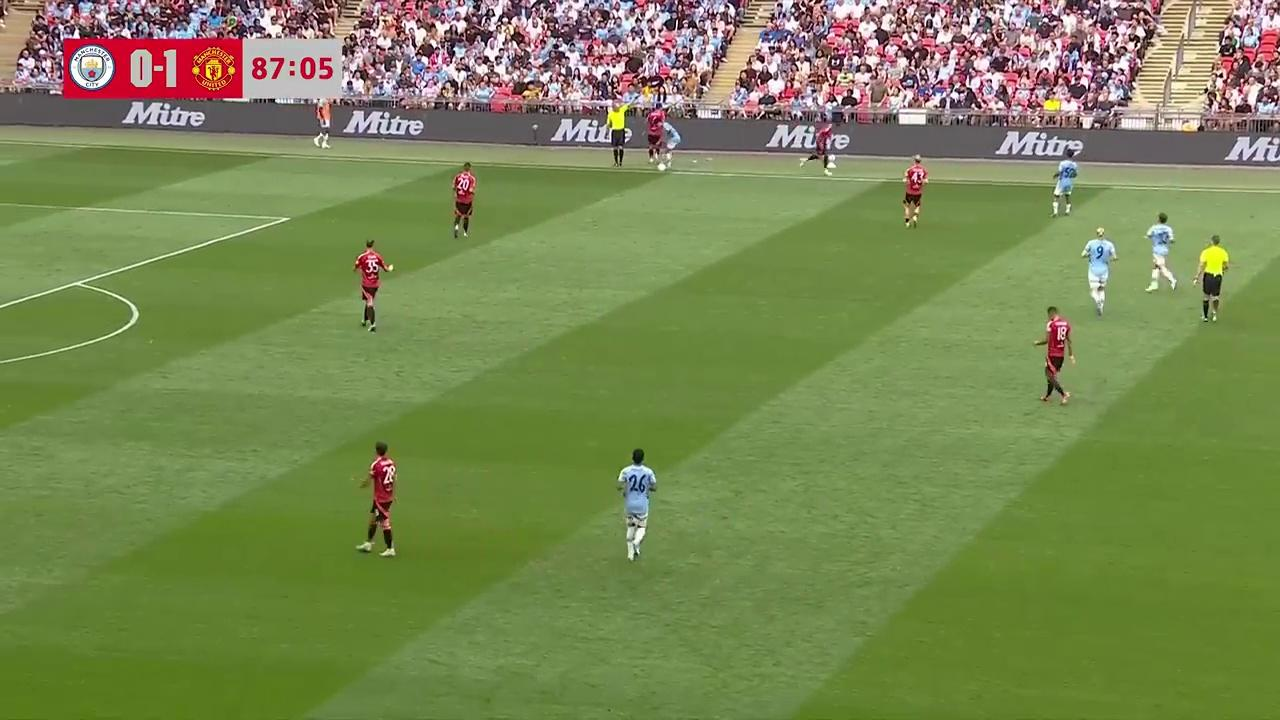ball: (657, 159, 667, 174)
player: (354, 442, 398, 557), (617, 447, 656, 561), (1035, 306, 1075, 404), (353, 239, 392, 331), (1081, 226, 1117, 316), (1143, 212, 1177, 292), (451, 162, 476, 239), (903, 156, 928, 228), (1051, 154, 1078, 216), (815, 128, 835, 175), (645, 113, 662, 167)
referee: (1193, 234, 1233, 321), (609, 107, 627, 168)
